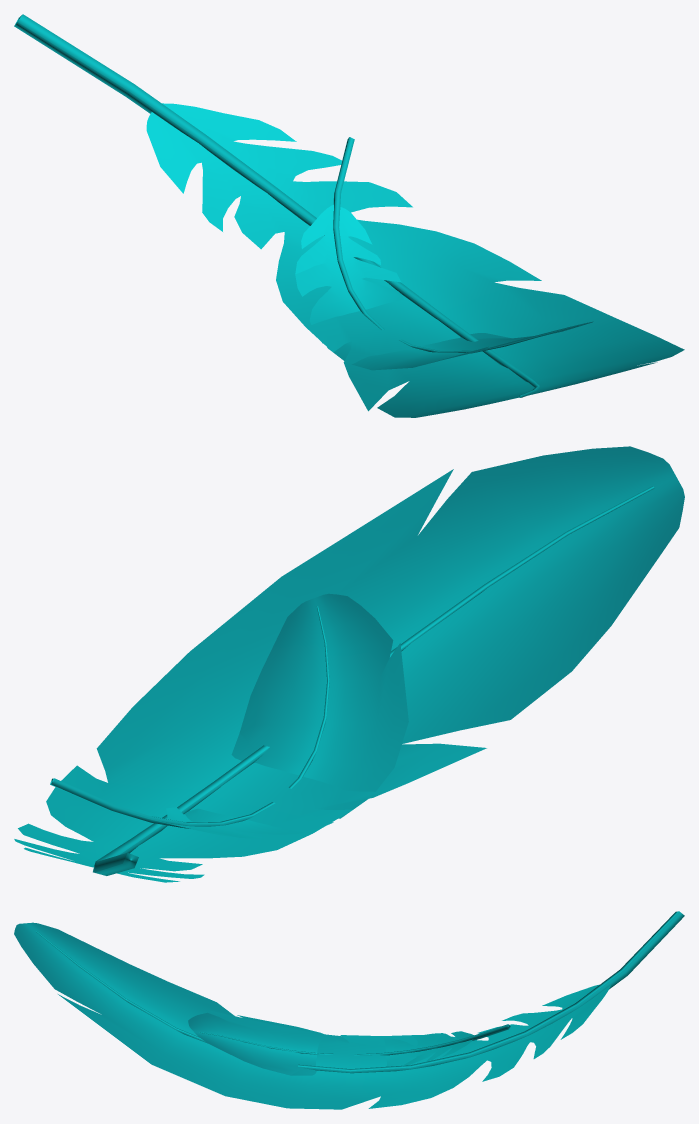
File: AnimalParts_WhiteFeather.fbx
3 views of the same model, one above another, from view 1: azimuth 30°, elevation 25°; view 2: azimuth 150°, elevation 25°; view 3: azimuth 270°, elevation 25° (orthographic). The views are drawn at different scales.
Visible parts, largest first — view 1: alt1, alt2; view 2: alt1, alt2; view 3: alt1, alt2.
Part boxes in pixels (x1,y1,x2,y2): alt1: [14, 14, 684, 417]; alt2: [295, 137, 593, 370]; alt1: [14, 446, 684, 882]; alt2: [50, 593, 408, 838]; alt1: [14, 911, 684, 1109]; alt2: [188, 1010, 510, 1075].
Bounding box in the file's own units: 60.31 × 29.65 × 165.
